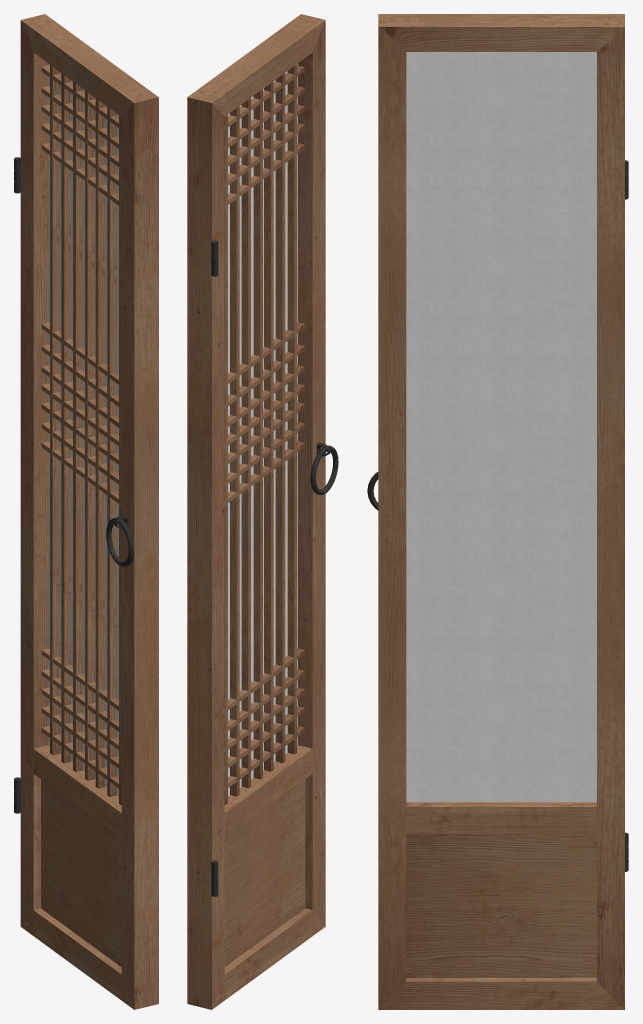
File: SM_Yeonkyung_O_Haenggak_Door_G_001.fbx
3 views of the same model, side by side, from view 1: azimuth 30°, elevation 25°; view 2: azimuth 150°, elevation 25°; view 3: azimuth 270°, elevation 25° (orthographic). The views are drawn at different scales.
Visible parts, largest first — view 1: SM_Yeonkyung_O_Haenggak_Door_G_001; view 2: SM_Yeonkyung_O_Haenggak_Door_G_001; view 3: SM_Yeonkyung_O_Haenggak_Door_G_001.
Boxes of the visible parts, bbox=[...] form: SM_Yeonkyung_O_Haenggak_Door_G_001: bbox=[14, 14, 158, 1009]; SM_Yeonkyung_O_Haenggak_Door_G_001: bbox=[187, 14, 338, 1009]; SM_Yeonkyung_O_Haenggak_Door_G_001: bbox=[367, 14, 628, 1009].
Size of the model in its own units: 7.4 by 177 by 42.66.
